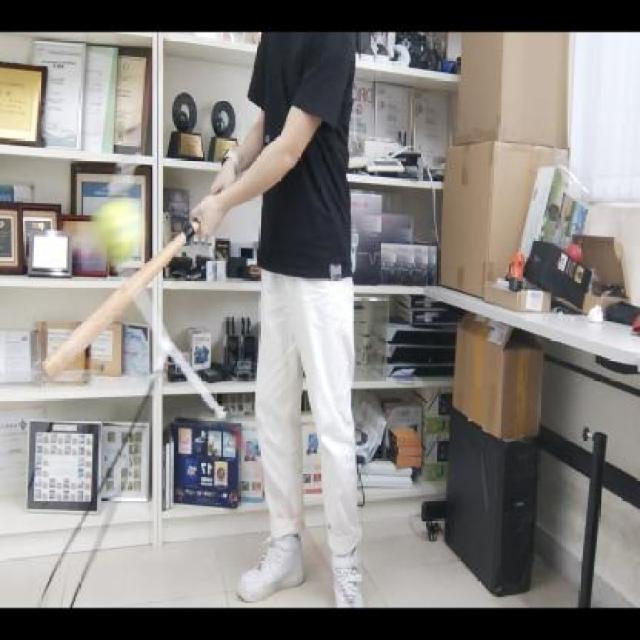baseball: (92, 200, 139, 266)
